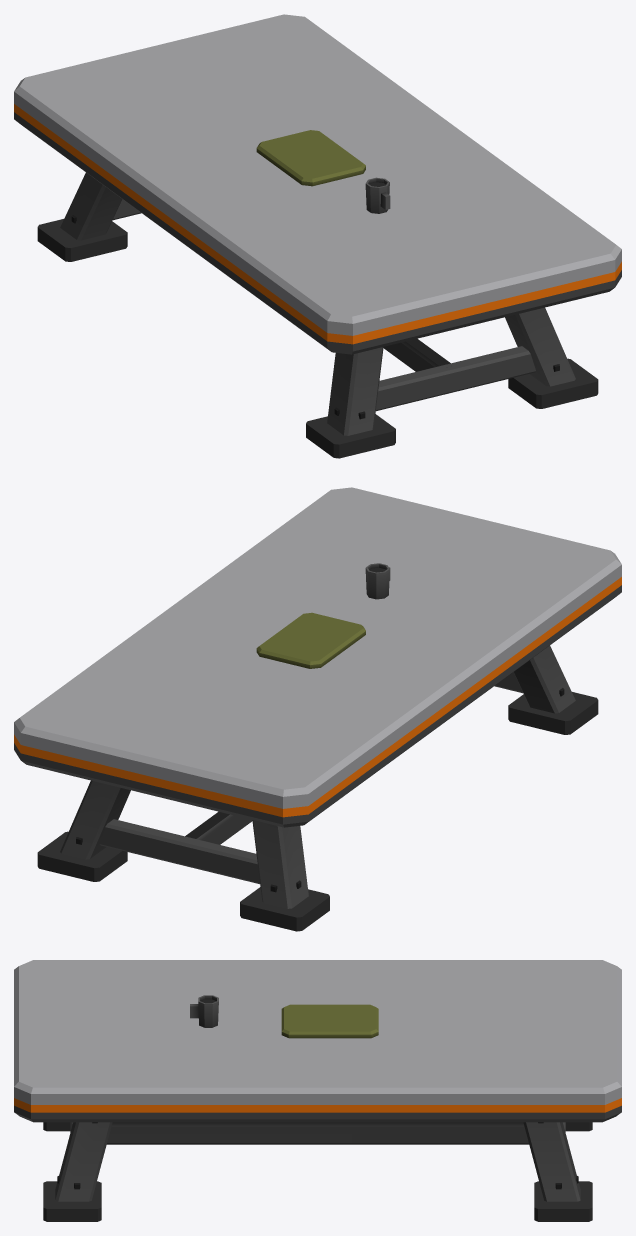
The model's file is mess-table.glb.
3 views of the same model, one above another, from view 1: azimuth 30°, elevation 25°; view 2: azimuth 150°, elevation 25°; view 3: azimuth 270°, elevation 25° (orthographic). The views are drawn at different scales.
Parts seen in each view (by area): view 1: mess-table; view 2: mess-table; view 3: mess-table.
Boxes of the visible parts, x1=… form: mess-table: x1=14, y1=14, x2=621, y2=458; mess-table: x1=14, y1=487, x2=621, y2=931; mess-table: x1=14, y1=960, x2=621, y2=1221.
Size of the model in its own units: 1.28 by 0.74 by 2.5.
Materials: 1 (1 with a texture image).
